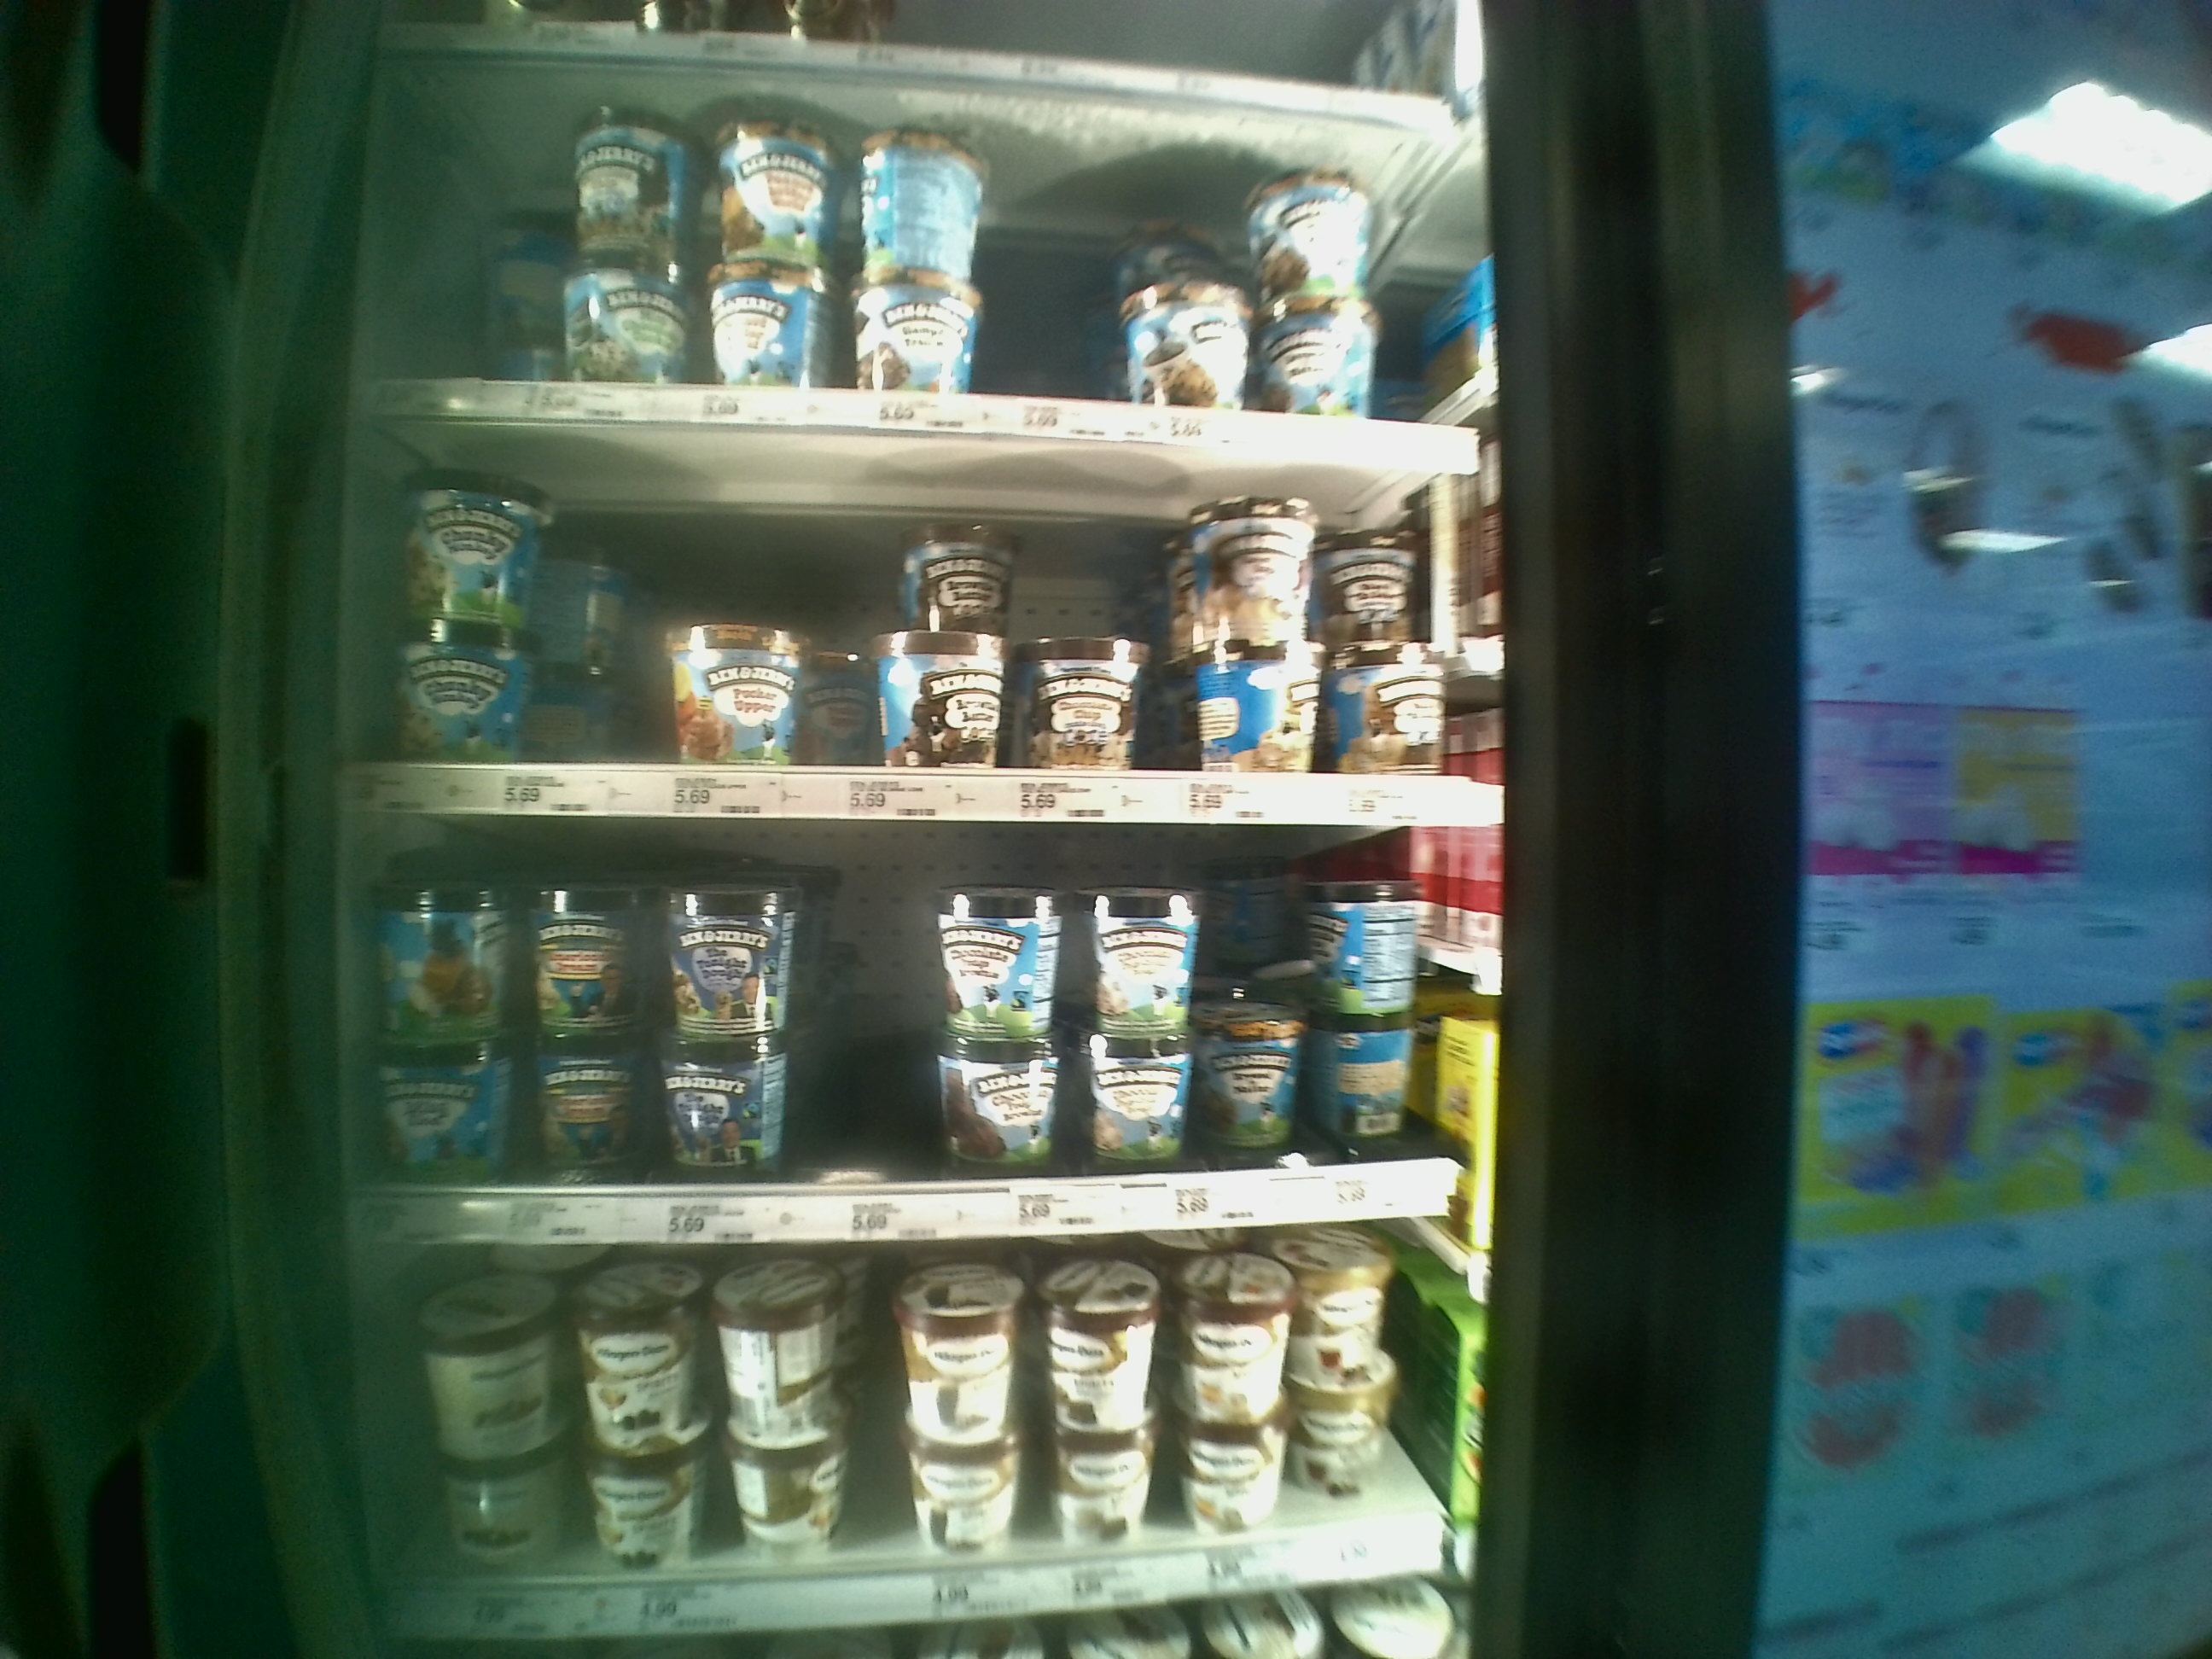ice-cream-shelf: (340, 817, 1505, 1239)
